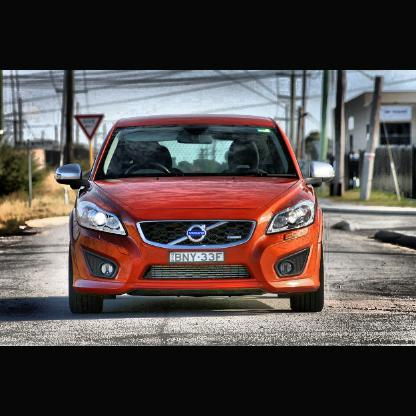Volvo C30 Hatchback 2012: (54, 114, 334, 312)
